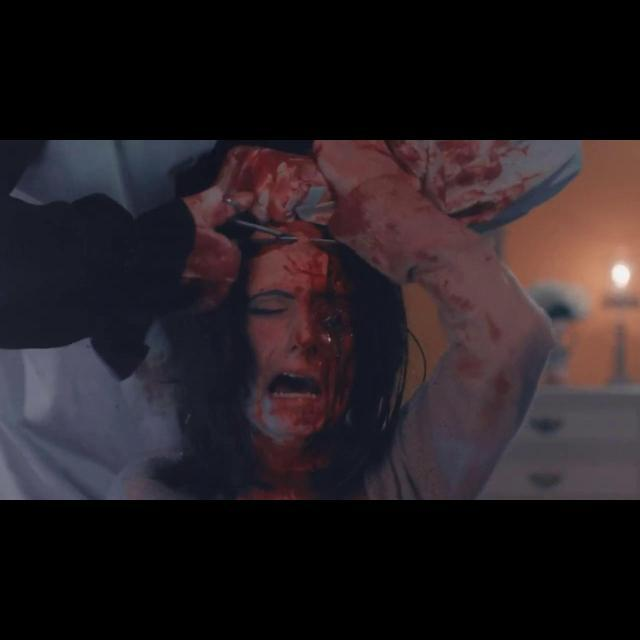blood: (138, 140, 576, 500)
